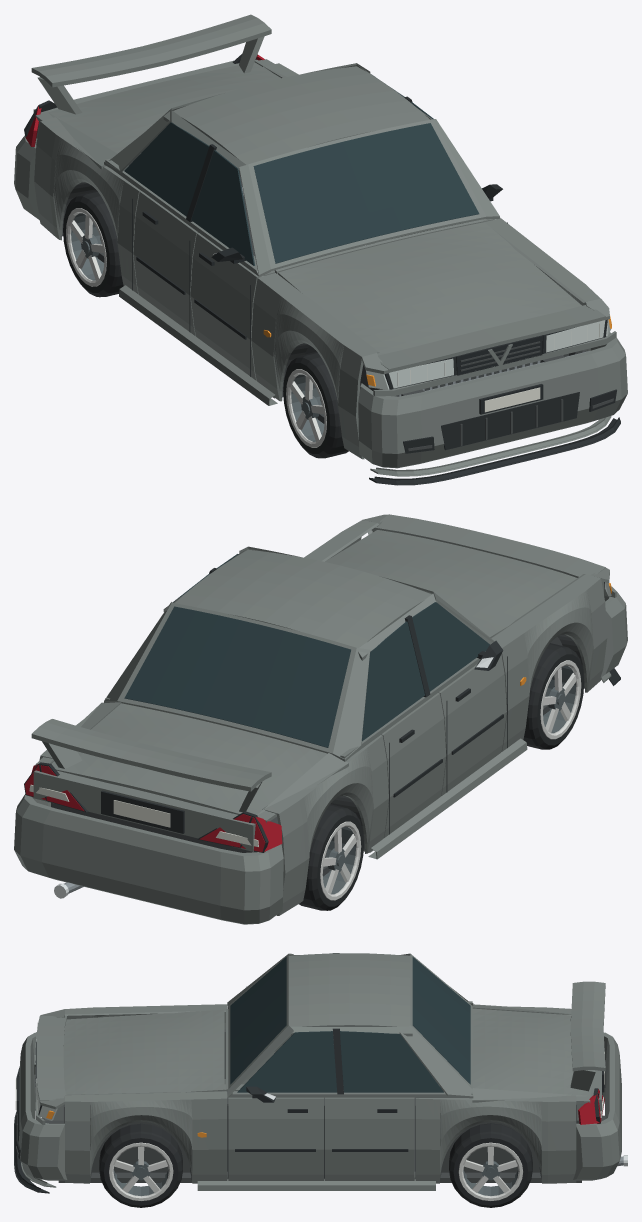
The model's file is banwa_dalagan_1996_modular.glb.
The picture shows the model from 3 angles, top to bottom: view 1: azimuth 30°, elevation 25°; view 2: azimuth 150°, elevation 25°; view 3: azimuth 270°, elevation 25°; orthographic projection. The views are drawn at different scales.
Visible parts, largest first — view 1: shell_base, hood_stock, windshield, bumper_front_stock, fender_fr_stock, trunk_stock, spoiler_rear_stock, nose_top, wheel_fr, wheel_rr, window_rear_-1, window_front_-1 (+11 smaller); view 2: shell_base, rear_glass, bumper_rear_stock, trunk_stock, hood_stock, fender_fr_stock, spoiler_rear_stock, wheel_rr, wheel_fr, rear_panel, window_rear_-1, nose_top (+8 smaller); view 3: shell_base, hood_stock, fender_fl_stock, trunk_stock, window_rear_1, wheel_rl, wheel_fl, rear_glass, windshield, window_front_1, bumper_front_stock, bumper_rear_stock (+8 smaller).
Part boxes in pixels (<box>): shell_base: <box>34,59,588,423</box>; hood_stock: <box>278,222,581,355</box>; windshield: <box>253,123,479,263</box>; bumper_front_stock: <box>358,332,627,468</box>; fender_fr_stock: <box>251,273,379,459</box>; trunk_stock: <box>48,62,280,153</box>; spoiler_rear_stock: <box>31,14,271,114</box>; nose_top: <box>362,298,609,374</box>; wheel_fr: <box>283,351,348,458</box>; wheel_rr: <box>63,190,123,297</box>; window_rear_-1: <box>124,122,209,216</box>; window_front_-1: <box>191,150,254,265</box>; shell_base: <box>35,546,586,915</box>; rear_glass: <box>124,606,350,747</box>; bumper_rear_stock: <box>14,794,283,924</box>; trunk_stock: <box>51,703,327,814</box>; hood_stock: <box>325,530,576,637</box>; fender_fr_stock: <box>491,574,607,751</box>; spoiler_rear_stock: <box>31,719,271,812</box>; wheel_rr: <box>299,804,363,910</box>; wheel_fr: <box>523,643,584,749</box>; rear_panel: <box>33,770,255,851</box>; window_rear_-1: <box>362,621,424,741</box>; nose_top: <box>362,514,609,582</box>; shell_base: <box>42,953,605,1183</box>; hood_stock: <box>63,1009,224,1094</box>; fender_fl_stock: <box>65,1091,227,1183</box>; trunk_stock: <box>472,1008,590,1096</box>; window_rear_1: <box>340,1031,443,1092</box>; wheel_rl: <box>449,1123,532,1207</box>; wheel_fl: <box>99,1123,182,1207</box>; rear_glass: <box>412,957,470,1084</box>; windshield: <box>230,957,286,1084</box>; window_front_1: <box>237,1031,336,1092</box>; bumper_front_stock: <box>15,1032,67,1180</box>; bumper_rear_stock: <box>573,1032,621,1180</box>.
Size of the model in its own units: 1.83 by 1.39 by 4.39.
